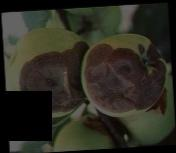rotten apple: (4, 25, 88, 120), (80, 31, 168, 118)
